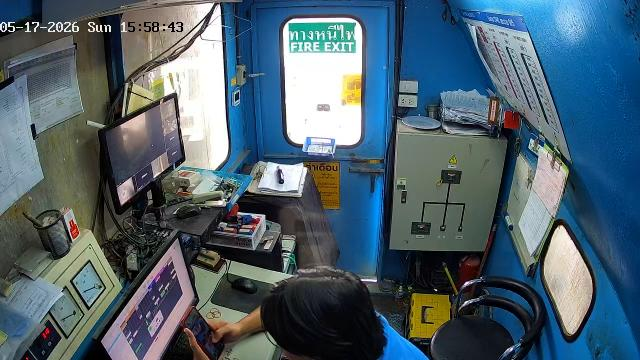Head: (259, 266, 386, 357)
People: (188, 262, 430, 360)
Phone: (180, 306, 226, 360)
